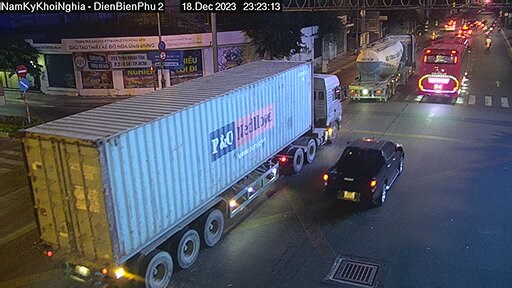car: (327, 134, 406, 208), (419, 36, 474, 101)
truck: (34, 51, 338, 283), (356, 9, 419, 101)
